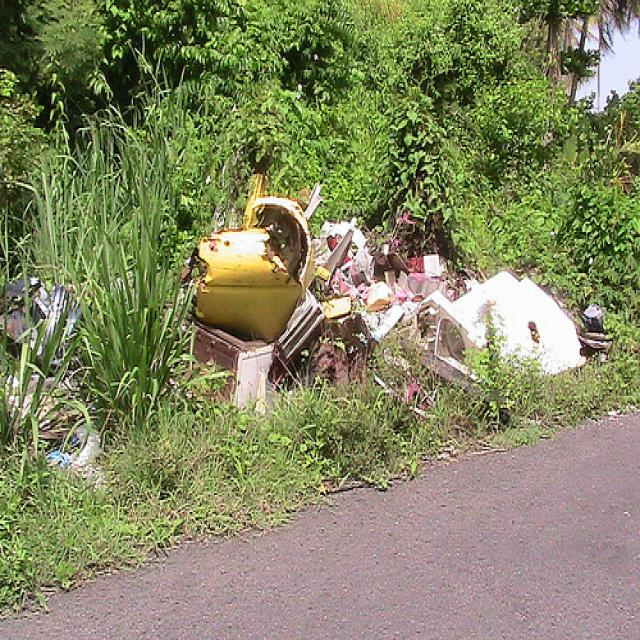garbage: (15, 179, 605, 471)
